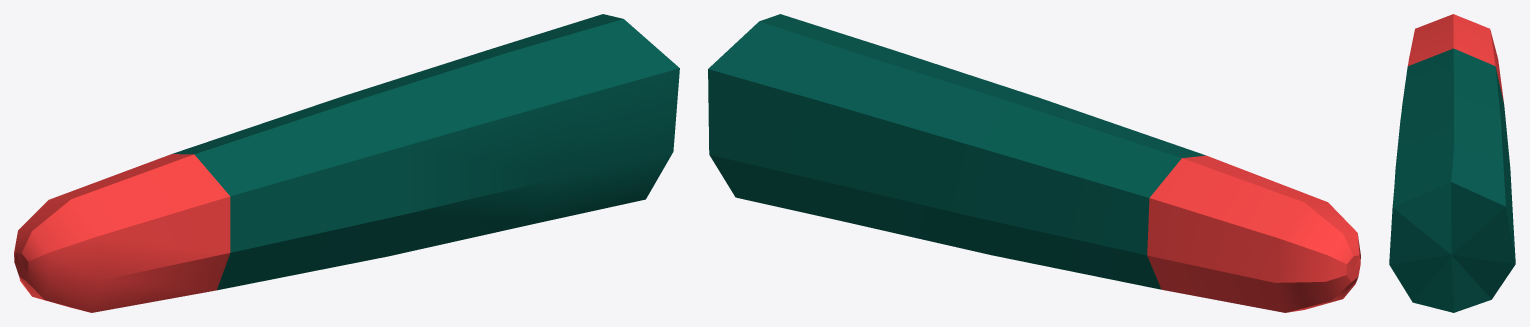
The model's file is AXO_SAD_HAND_R.fbx.
3 renders of one model, left to right at view 1: azimuth 30°, elevation 25°; view 2: azimuth 150°, elevation 25°; view 3: azimuth 270°, elevation 25°, orthographic. The views are drawn at different scales.
Parts seen in each view (by area): view 1: AXO_SAD_HAND_R; view 2: AXO_SAD_HAND_R; view 3: AXO_SAD_HAND_R.
Part boxes in pixels (x1,y1,x2,y2): AXO_SAD_HAND_R: [14, 14, 679, 312]; AXO_SAD_HAND_R: [708, 14, 1360, 312]; AXO_SAD_HAND_R: [1389, 14, 1515, 312].
Bounding box in the file's own units: 4.22 × 1.13 × 0.9907.
